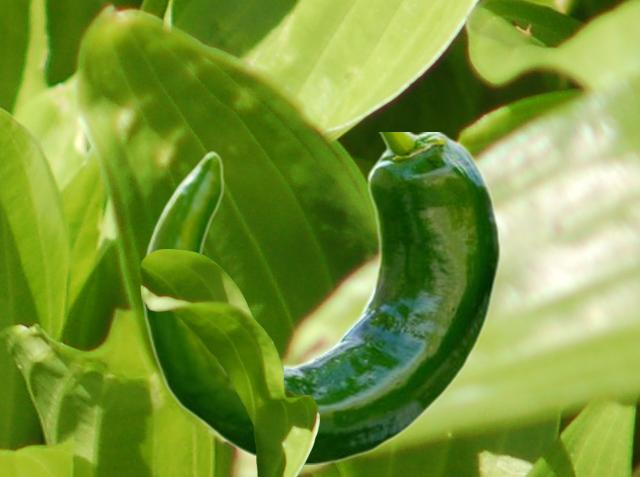green_chili: (141, 132, 501, 463)
